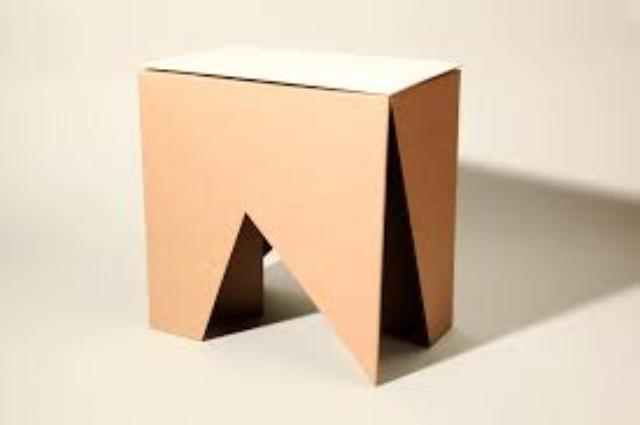cardboard paper: (140, 49, 456, 379)
